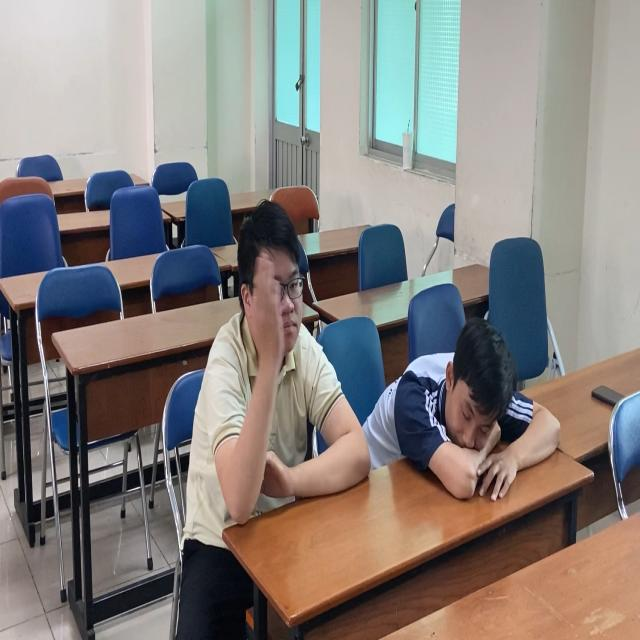raise_hand: (197, 193, 346, 541)
sleep: (367, 316, 574, 514)
